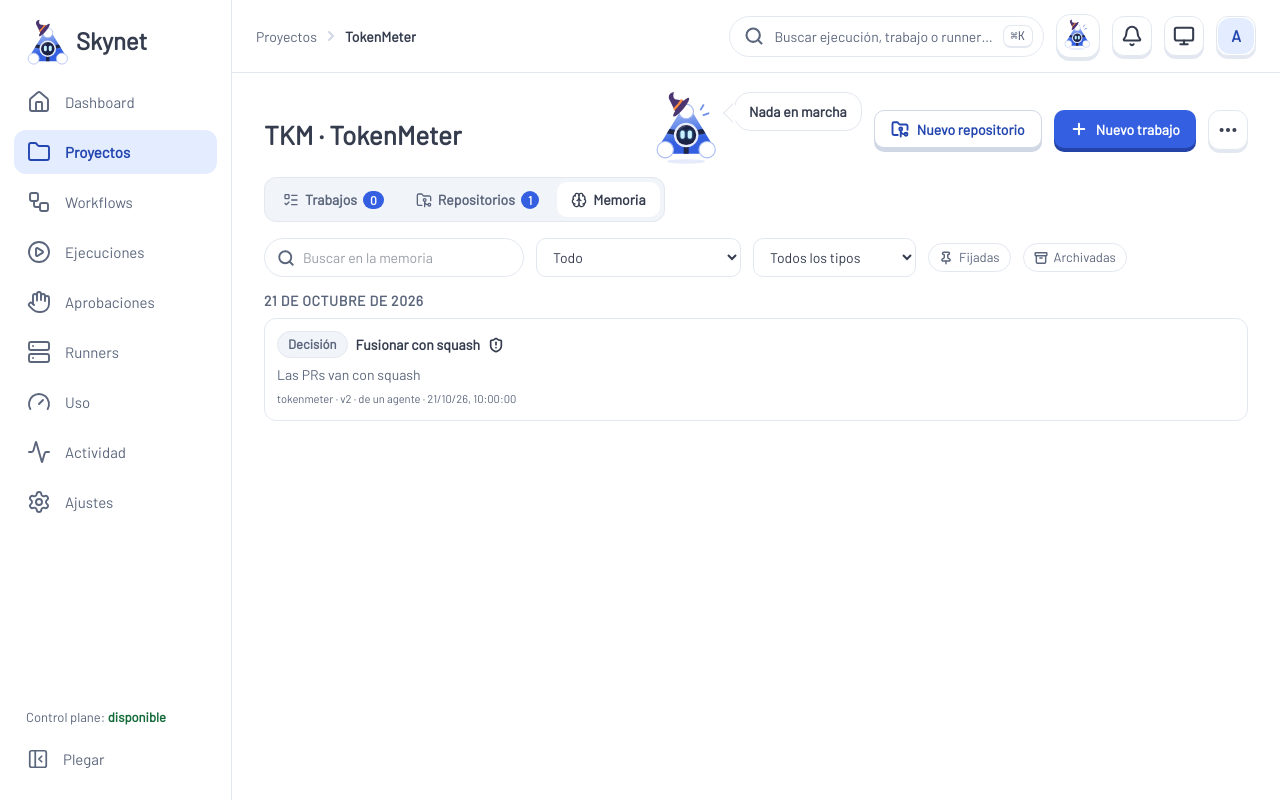
Test case: Memoria del proyecto › abre una entrada con su procedencia y sus versiones, y la fija
The width and height of the screenshot is (1280, 800).
Step 1. Click the button "Fusionar con squash" → click(312, 345), box [264,318,1248,421]
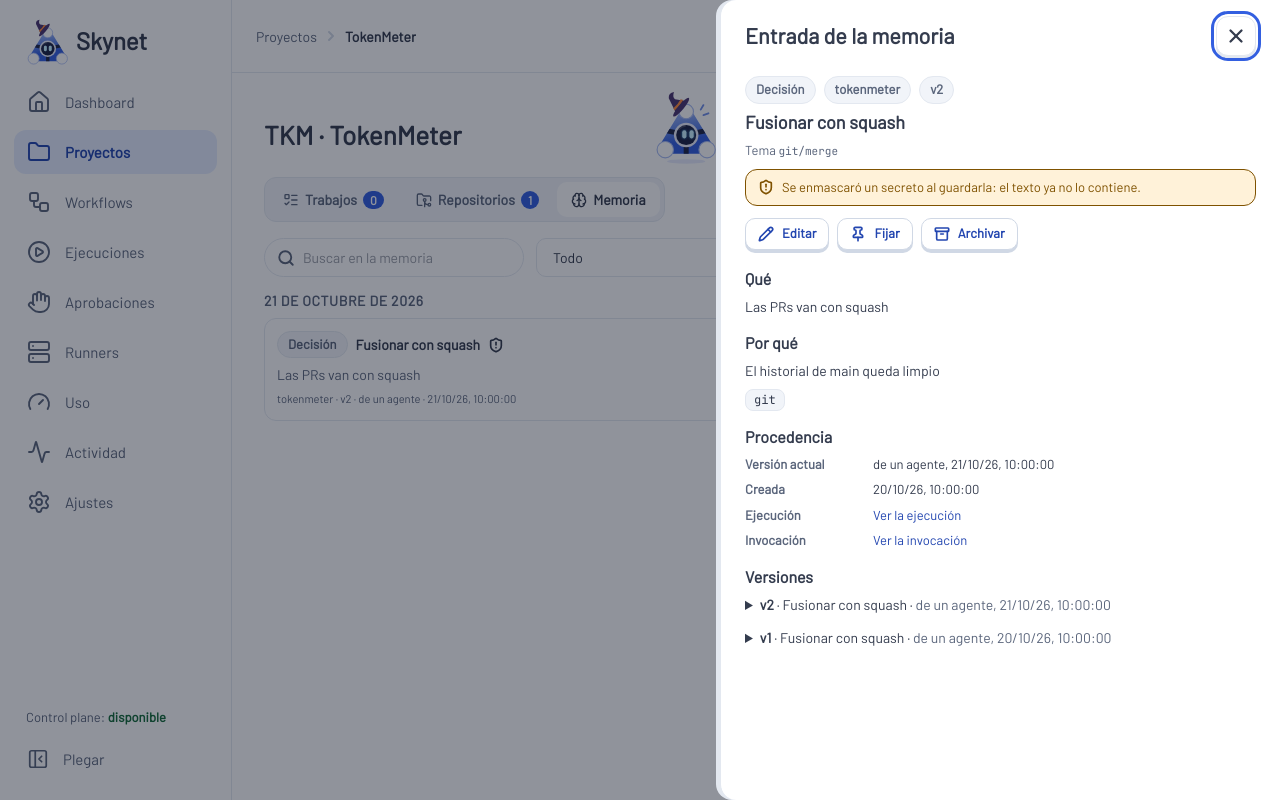
Expected: the heading "Fusionar con squash" is shown, [745,110,905,132]
Expected: the text "Se enmascaró un secreto" is shown, [782,179,1141,195]
Step 2. Click the button "Fijar" → click(875, 234), box [837,218,913,250]
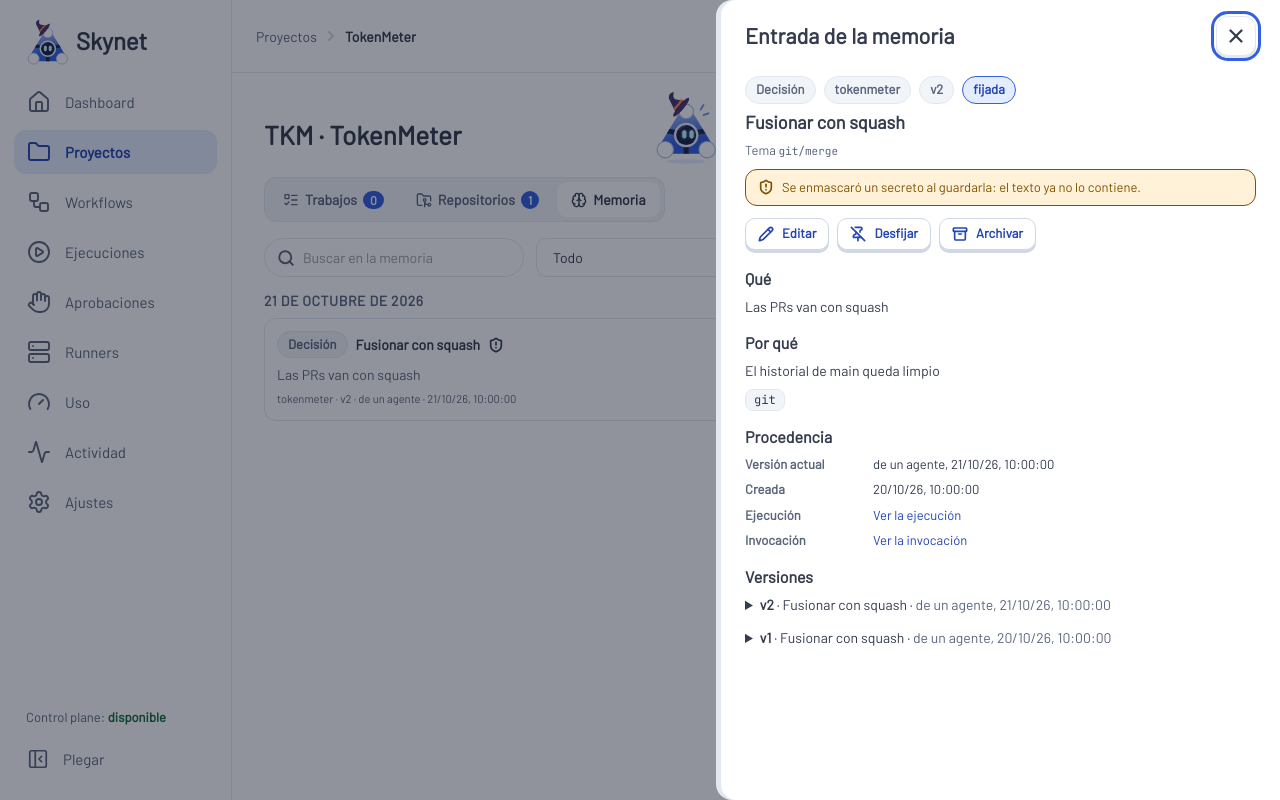
Expected: the button "Desfijar" is shown, [837,218,931,250]
